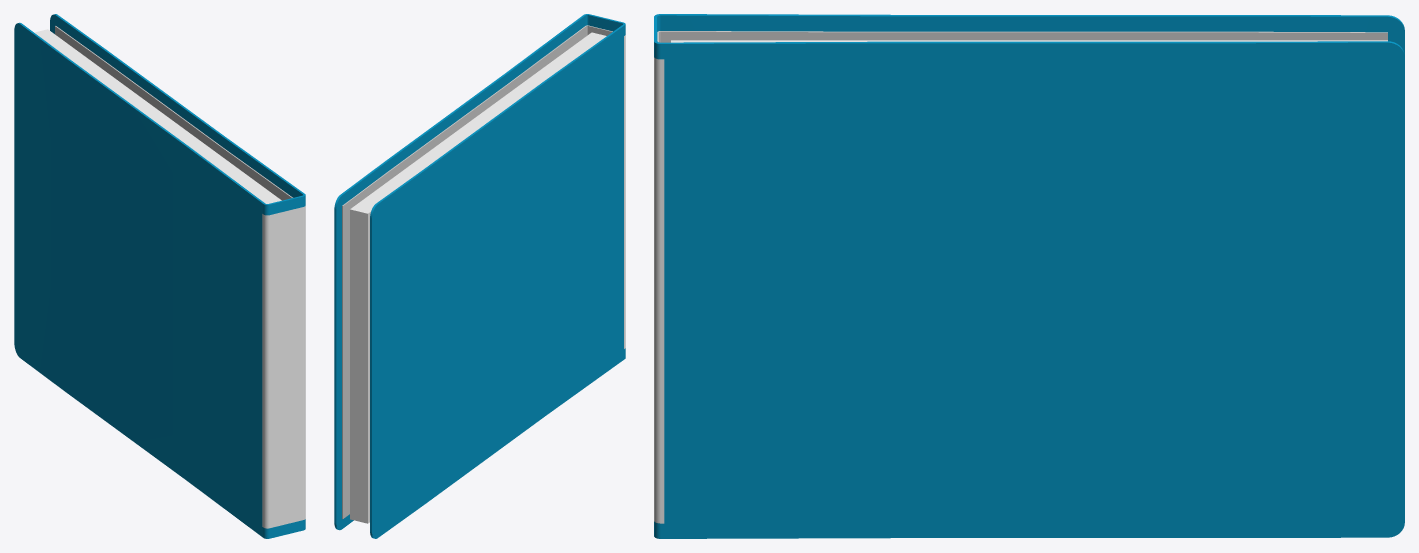
File: 458_パイプ式ファイルA3中身あり.glb
3 renders of one model, left to right at view 1: azimuth 30°, elevation 25°; view 2: azimuth 150°, elevation 25°; view 3: azimuth 270°, elevation 25°, orthographic. The views are drawn at different scales.
Parts seen in each view (by area): view 1: 458_pipe_file_A3_with_contents; view 2: 458_pipe_file_A3_with_contents; view 3: 458_pipe_file_A3_with_contents.
Part boxes in pixels (bbox=[...]): 458_pipe_file_A3_with_contents: bbox=[14, 14, 305, 538]; 458_pipe_file_A3_with_contents: bbox=[334, 14, 625, 538]; 458_pipe_file_A3_with_contents: bbox=[654, 14, 1404, 538].
Bounding box in the file's own units: 0.0416 × 0.32 × 0.44.
